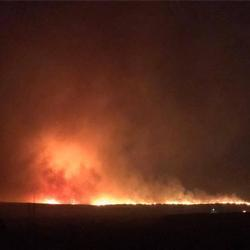fire: (49, 143, 91, 175), (171, 198, 244, 204), (92, 196, 131, 206), (40, 196, 57, 206)
